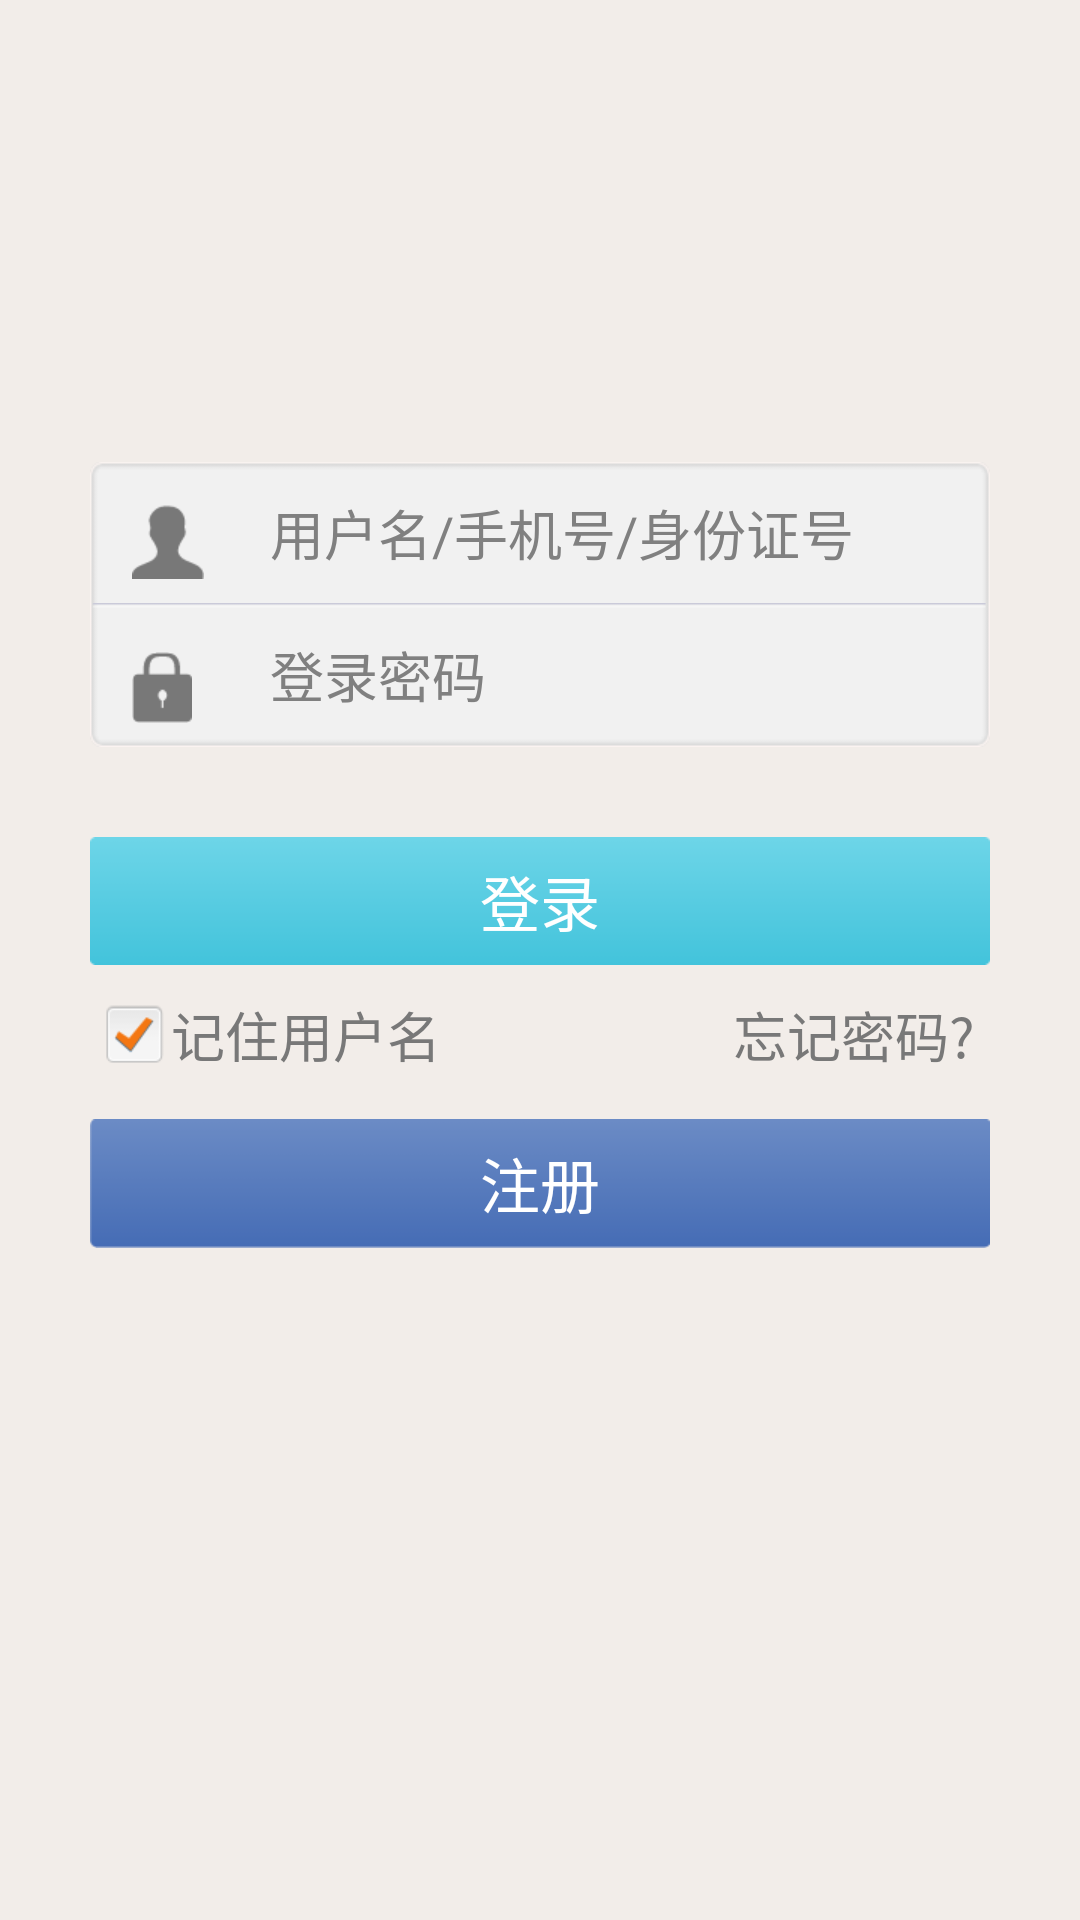

Point at icon controls on the screen. Image size 1080×1920, points as point (x, y).
password: point (162, 687)
username: point (168, 542)
